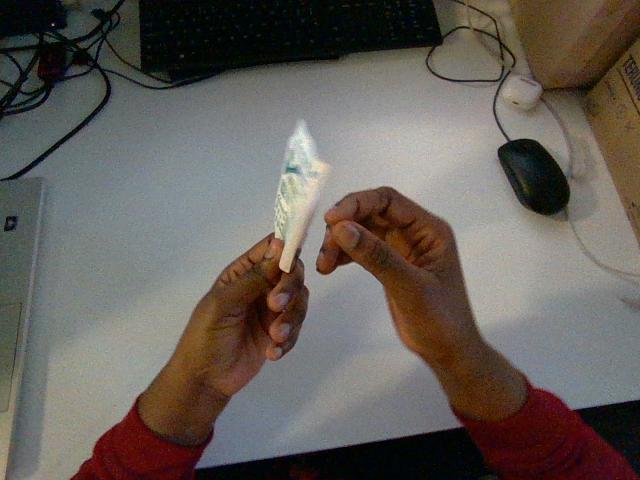gauze: (275, 120, 329, 272)
